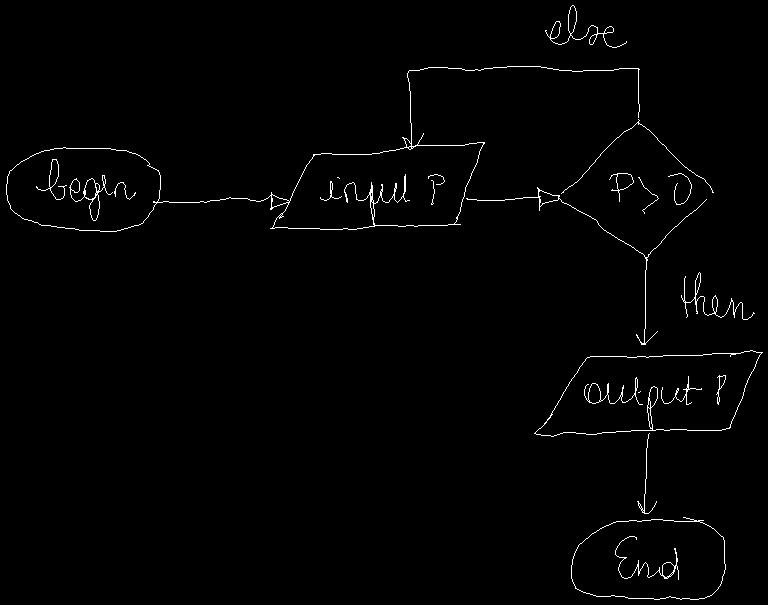arrow: (402, 66, 639, 149), (153, 192, 289, 209), (466, 187, 559, 210), (636, 258, 657, 344), (637, 433, 656, 513)
data: (534, 350, 762, 436), (270, 142, 484, 229)
decision: (559, 119, 713, 260)
terminator: (6, 147, 160, 231), (571, 517, 725, 599)
text: (584, 375, 725, 429), (320, 174, 444, 226), (36, 159, 135, 220), (681, 272, 754, 319), (545, 5, 626, 47), (609, 173, 691, 213), (615, 536, 678, 579)
